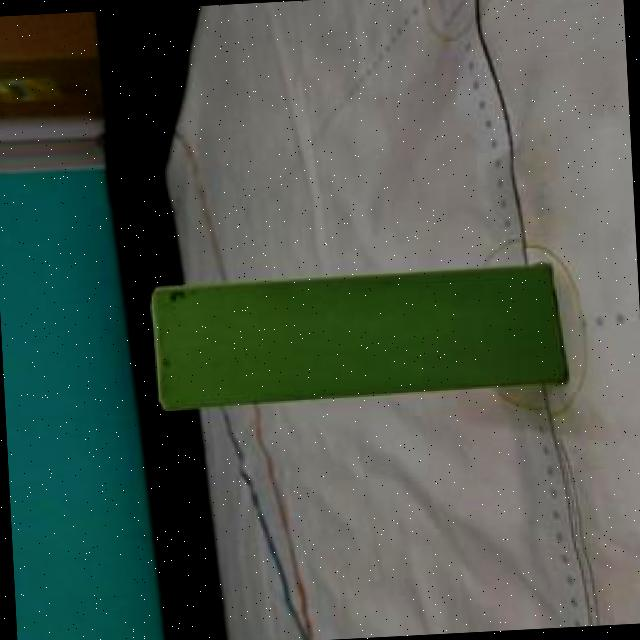greenbox: (151, 264, 568, 408)
